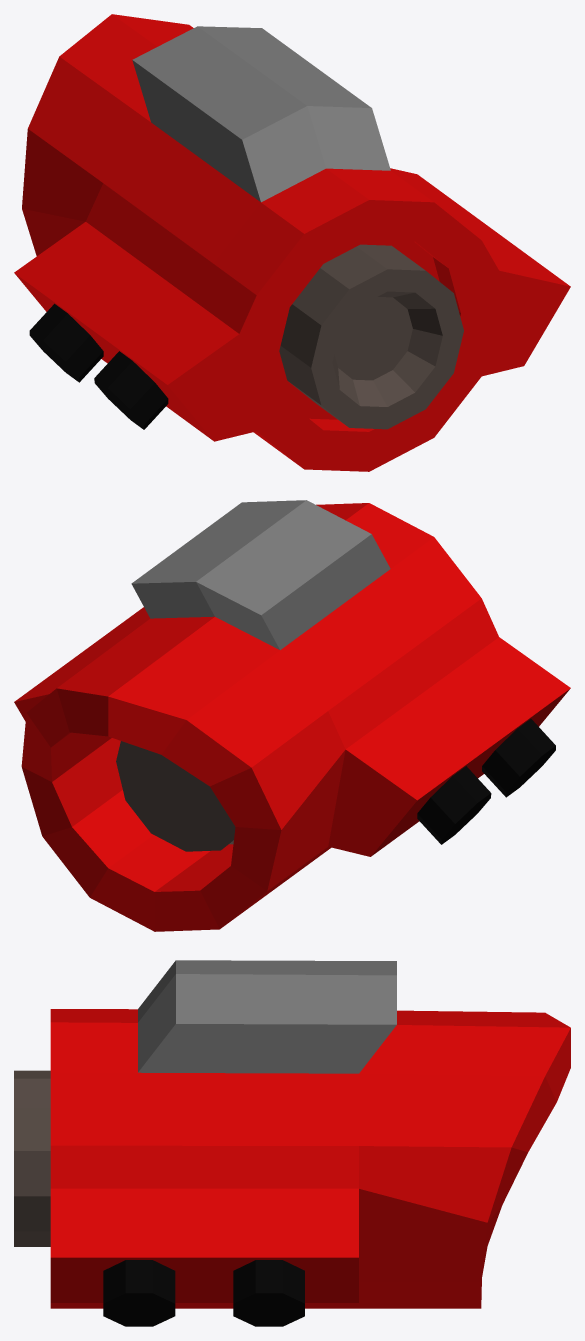
Rendered from flanker.fbx.
3 views of the same model, one above another, from view 1: azimuth 30°, elevation 25°; view 2: azimuth 150°, elevation 25°; view 3: azimuth 270°, elevation 25° (orthographic).
Parts seen in each view (by area): view 1: Cylinder.049, Cylinder.050; view 2: Cylinder.049, Cylinder.050; view 3: Cylinder.049, Cylinder.050.
Part boxes in pixels (left/top/right/bottom): Cylinder.049: left=14, top=14, right=570, bottom=471; Cylinder.050: left=29, top=303, right=168, bottom=429; Cylinder.049: left=14, top=500, right=570, bottom=931; Cylinder.050: left=417, top=719, right=555, bottom=844; Cylinder.049: left=14, top=960, right=570, bottom=1308; Cylinder.050: left=103, top=1260, right=304, bottom=1326.
Bounding box in the file's own units: 464 × 317 × 498.
